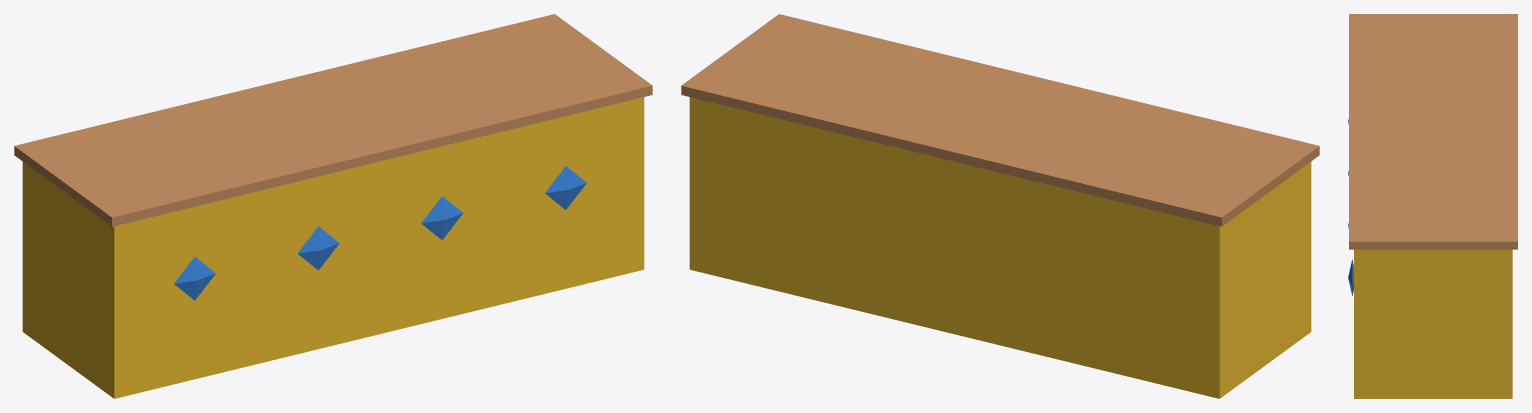
The model's file is toy_counter.glb.
3 renders of one model, left to right at view 1: azimuth 30°, elevation 25°; view 2: azimuth 150°, elevation 25°; view 3: azimuth 270°, elevation 25°, orthographic. The views are drawn at different scales.
Visible parts, largest first — view 1: base_counter_yellow, top_counter_top, stars_counter_star; view 2: base_counter_yellow, top_counter_top; view 3: top_counter_top, base_counter_yellow, stars_counter_star.
Part boxes in pixels (bbox=[...]): base_counter_yellow: bbox=[22, 97, 644, 398]; top_counter_top: bbox=[14, 14, 652, 226]; stars_counter_star: bbox=[174, 166, 586, 300]; base_counter_yellow: bbox=[689, 97, 1311, 398]; top_counter_top: bbox=[681, 14, 1319, 226]; top_counter_top: bbox=[1349, 14, 1517, 249]; base_counter_yellow: bbox=[1354, 249, 1512, 398]; stars_counter_star: bbox=[1348, 118, 1353, 295].
Size of the model in its own units: 3.06 by 1 by 0.964.
